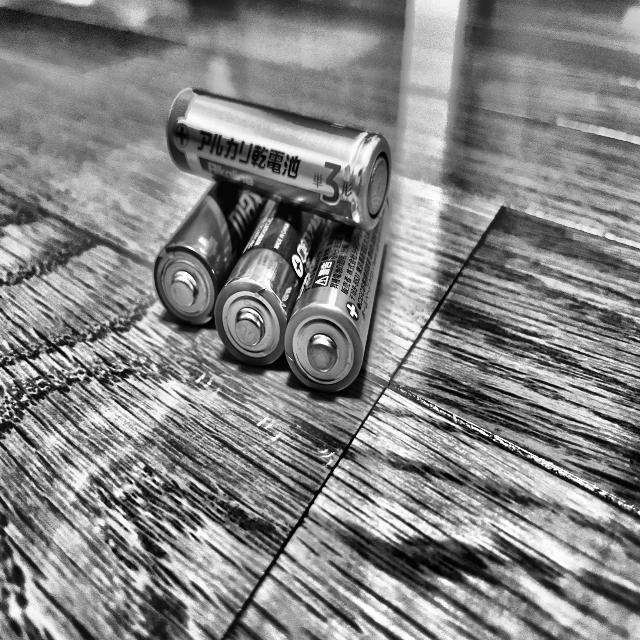drycell: (165, 79, 398, 234), (283, 170, 394, 395), (209, 190, 335, 376), (151, 177, 278, 330)
